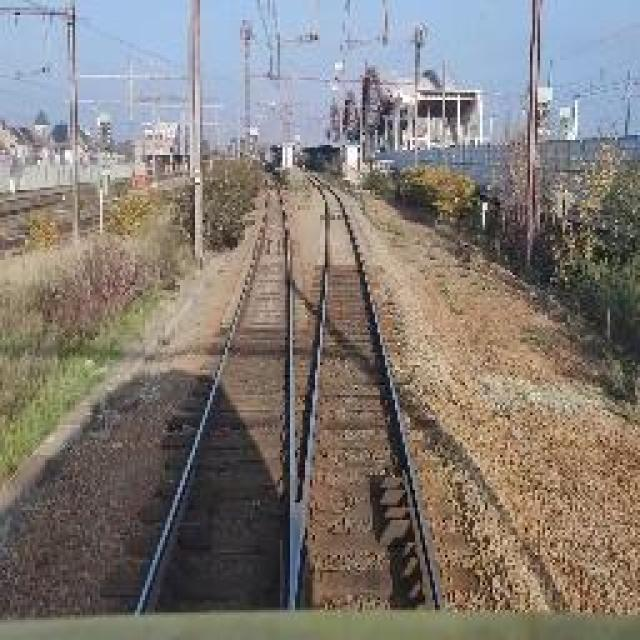rail: (109, 170, 462, 617)
